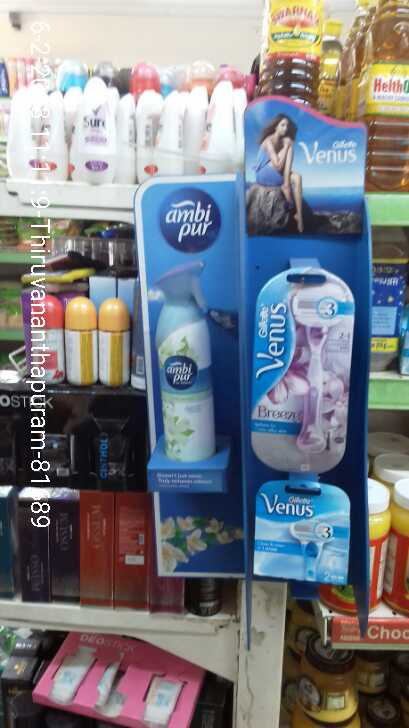beauty: (243, 258, 364, 473), (250, 474, 353, 584)
home: (148, 245, 227, 463)
